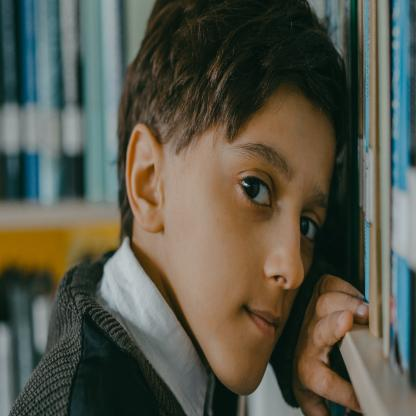Eye: (231, 162, 280, 219), (297, 202, 325, 249)
Mouth: (237, 299, 282, 339)
Nose: (260, 216, 304, 289)
